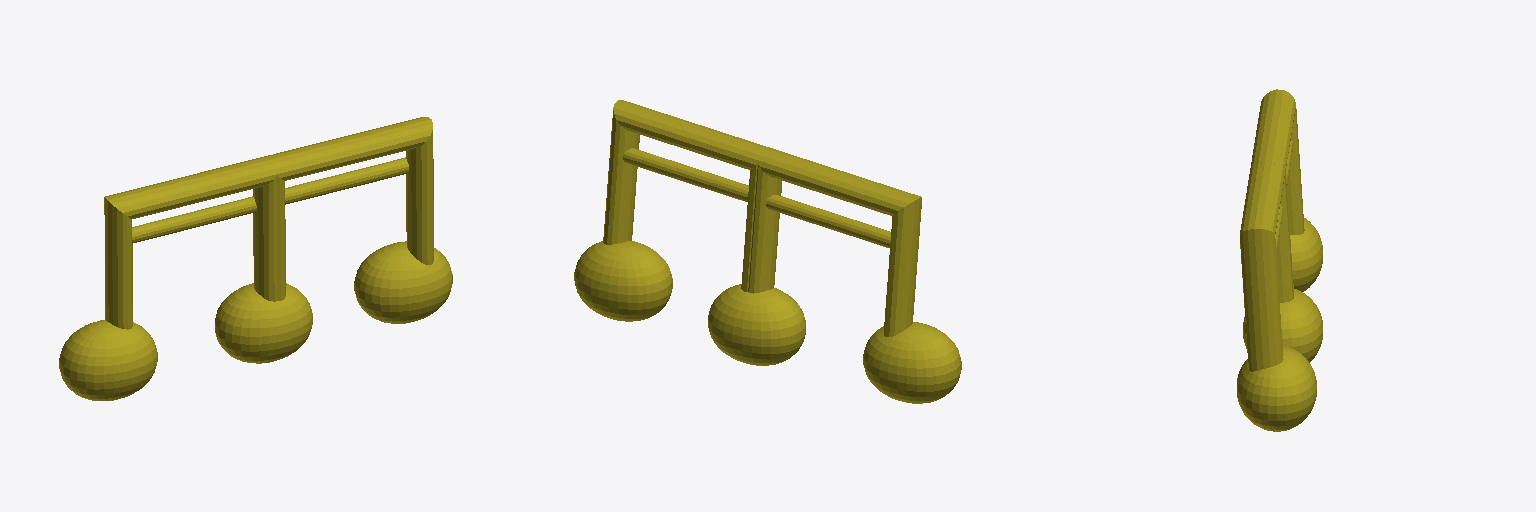
File: music3.obj
3 renders of one model, left to right at view 1: azimuth 30°, elevation 25°; view 2: azimuth 150°, elevation 25°; view 3: azimuth 270°, elevation 25°, orthographic.
Parts seen in each view (by area): view 1: ???, ???.2, ??, ??.2, ??.1, ???.1; view 2: ???, ???.2, ??.2, ??.1, ??, ???.1; view 3: ???.2, ??.2, ???, ??.1, ??.
Part boxes in pixels (x1,y1,x2,y2): ???: (104, 155, 279, 329); ???.2: (273, 117, 433, 300); ??: (59, 320, 157, 400); ??.2: (354, 241, 452, 323); ??.1: (215, 283, 312, 363); ???.1: (132, 157, 408, 243); ???: (748, 146, 921, 336); ???.2: (603, 100, 762, 291); ??.2: (574, 241, 672, 321); ??.1: (708, 284, 805, 365); ??: (863, 322, 961, 403); ???.1: (623, 148, 890, 247); ???.2: (1240, 163, 1293, 371); ??.2: (1237, 346, 1316, 431); ???: (1251, 89, 1304, 288); ??.1: (1243, 289, 1322, 362); ??: (1290, 218, 1322, 291).
Size of the model in its own units: 85.4 by 45.69 by 16.87.